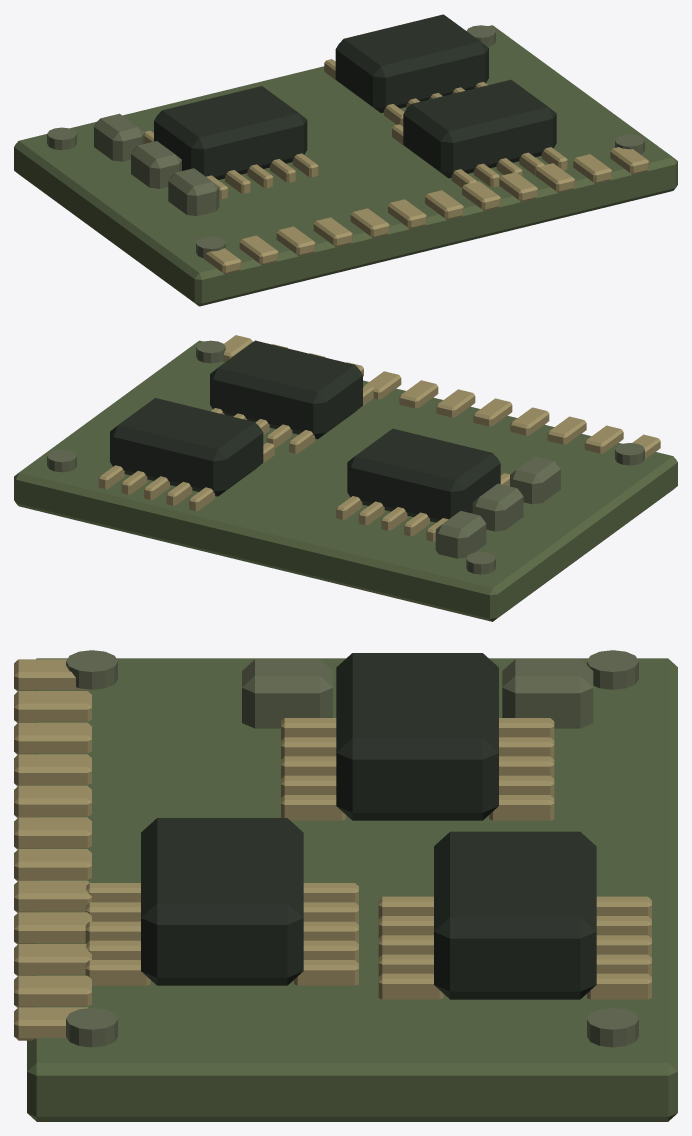
Rendered from loot_circuit.obj.
3 views of the same model, one above another, from view 1: azimuth 30°, elevation 25°; view 2: azimuth 150°, elevation 25°; view 3: azimuth 270°, elevation 25° (orthographic). The views are drawn at different scales.
Parts seen in each view (by area): view 1: loot_circuit; view 2: loot_circuit; view 3: loot_circuit.
Part boxes in pixels (left/top/right/bottom): loot_circuit: left=14, top=14, right=677, bottom=306; loot_circuit: left=14, top=335, right=677, bottom=621; loot_circuit: left=14, top=650, right=677, bottom=1121.
Size of the model in its own units: 1.5 by 0.24 by 1.02.
Materials: 1 (1 with a texture image).
